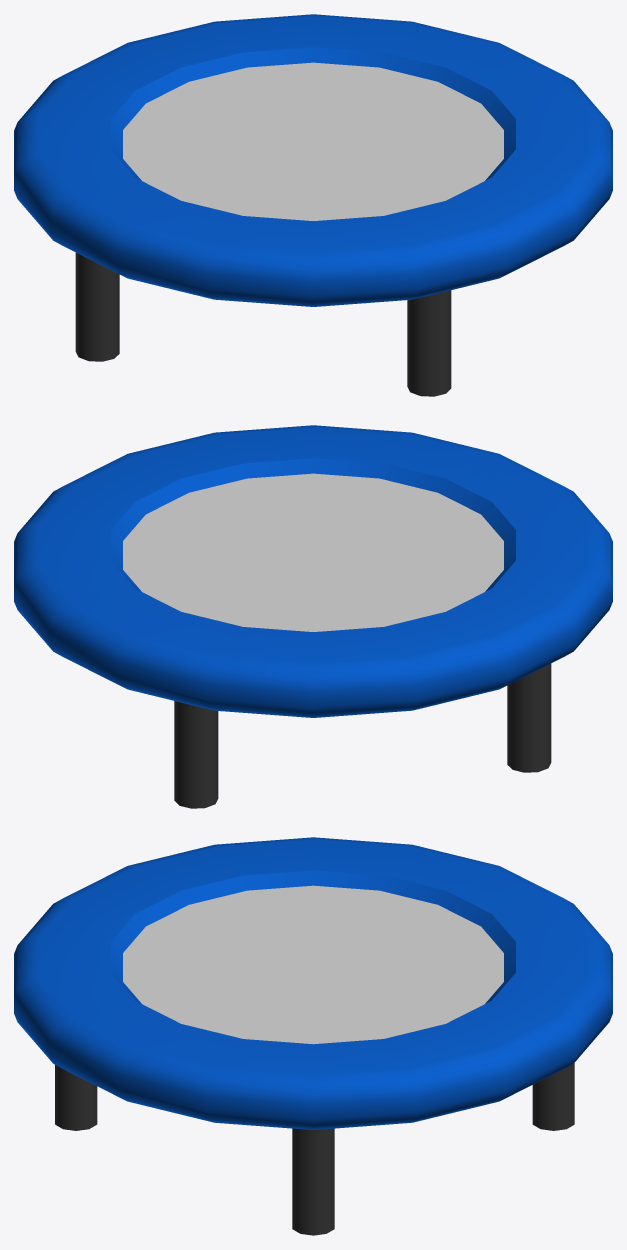
File: terampoline.fbx
The picture shows the model from 3 angles, top to bottom: view 1: azimuth 30°, elevation 25°; view 2: azimuth 150°, elevation 25°; view 3: azimuth 270°, elevation 25°; orthographic projection.
Visible parts, largest first — view 1: Cylinder, Cylinder_4, Cylinder_2; view 2: Cylinder, Cylinder_3, Cylinder_2; view 3: Cylinder, Cylinder_1, Cylinder_3, Cylinder_4.
Part boxes in pixels (x1,y1,x2,y2): Cylinder: (14, 14, 612, 306); Cylinder_4: (407, 290, 451, 396); Cylinder_2: (75, 252, 119, 361); Cylinder: (14, 425, 612, 717); Cylinder_3: (174, 701, 218, 808); Cylinder_2: (507, 663, 551, 772); Cylinder: (14, 837, 612, 1129); Cylinder_1: (292, 1128, 334, 1235); Cylinder_3: (532, 1063, 574, 1130); Cylinder_4: (55, 1065, 97, 1130).
Size of the model in its own units: 180 by 54.06 by 177.
